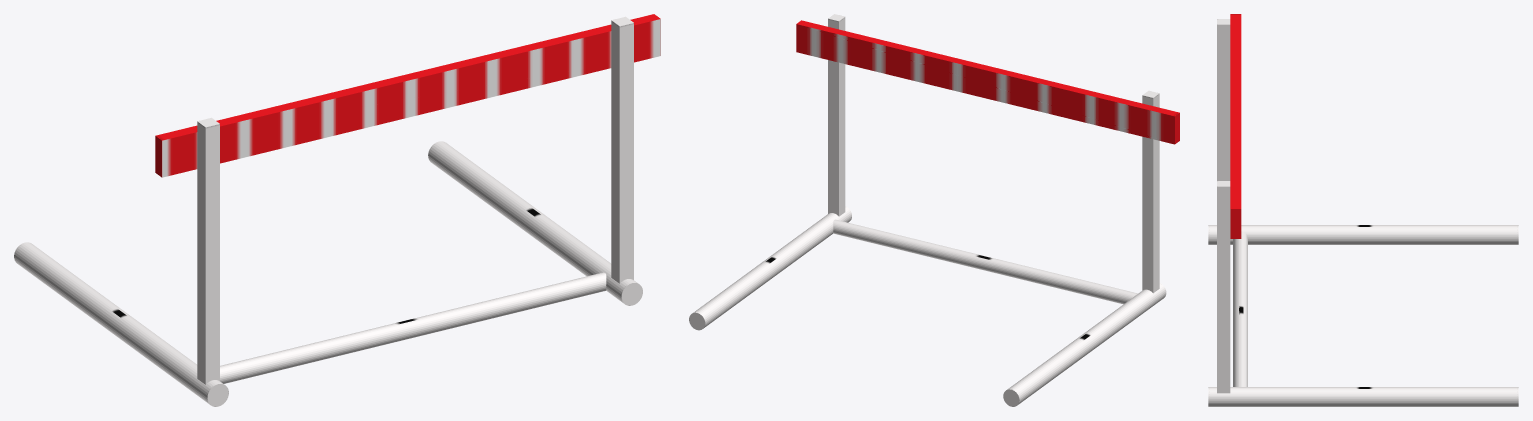
Rendered from barricade.fbx.
3 views of the same model, side by side, from view 1: azimuth 30°, elevation 25°; view 2: azimuth 150°, elevation 25°; view 3: azimuth 270°, elevation 25° (orthographic). The views are drawn at different scales.
Visible parts, largest first — view 1: Cube.002, Cylinder, Cube.001; view 2: Cube.002, Cylinder, Cube.001; view 3: Cylinder, Cube.001, Cube.002.
Boxes of the visible parts, left/top/right/bottom form: Cube.002: left=155, top=14, right=660, bottom=177; Cylinder: left=14, top=141, right=642, bottom=406; Cube.001: left=197, top=16, right=633, bottom=384; Cube.002: left=796, top=20, right=1179, bottom=144; Cylinder: left=689, top=206, right=1166, bottom=406; Cube.001: left=828, top=14, right=1159, bottom=293; Cylinder: left=1208, top=225, right=1518, bottom=406; Cube.001: left=1217, top=19, right=1230, bottom=393; Cube.002: left=1230, top=14, right=1241, bottom=238.
Bounding box in the file's own units: 241 × 128 × 162.
Materials: 3 (3 with a texture image).
